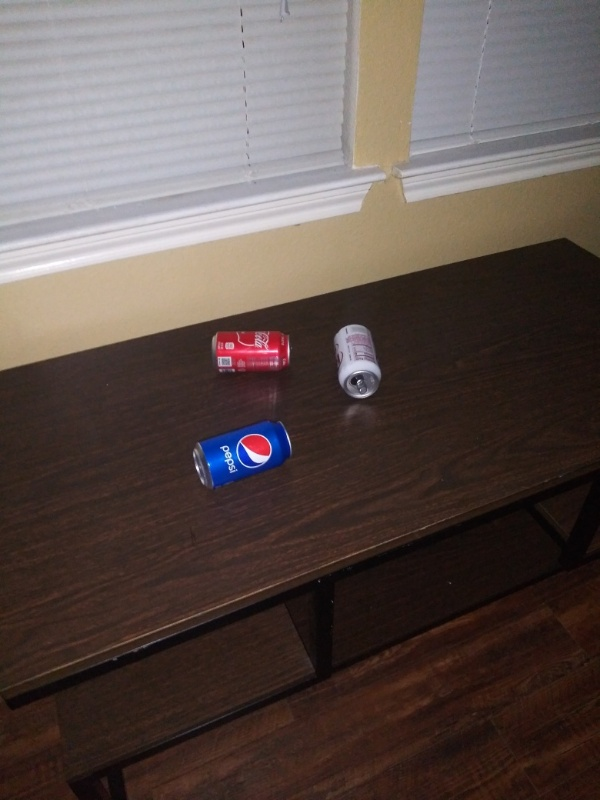can: (187, 415, 296, 494), (204, 322, 297, 380), (331, 321, 386, 406)
